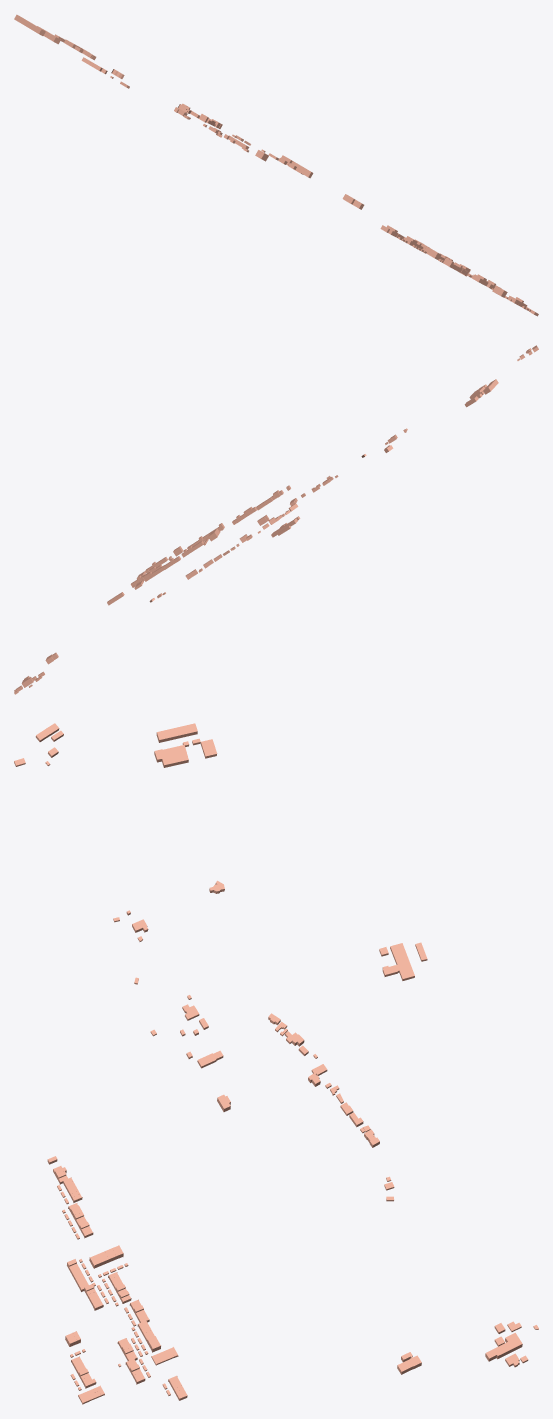
3 views of the same model, one above another, from view 1: azimuth 30°, elevation 25°; view 2: azimuth 150°, elevation 25°; view 3: azimuth 270°, elevation 25° (orthographic). The views are drawn at different scales.
Bounding box in the file's own units: 714 × 549 × 611.
